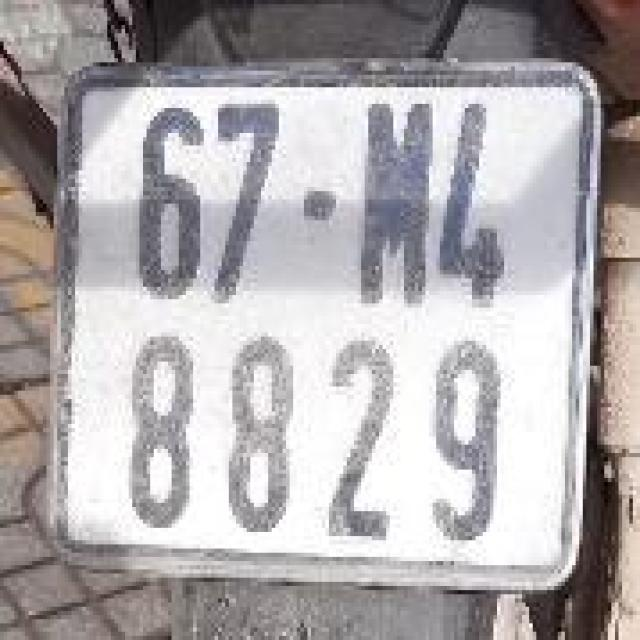2: (316, 326, 398, 551)
4: (436, 85, 518, 322)
6: (129, 95, 207, 304)
7: (213, 85, 284, 310)
8: (218, 320, 300, 549), (112, 320, 198, 532)
9: (417, 322, 513, 563)
M: (352, 77, 434, 322)
